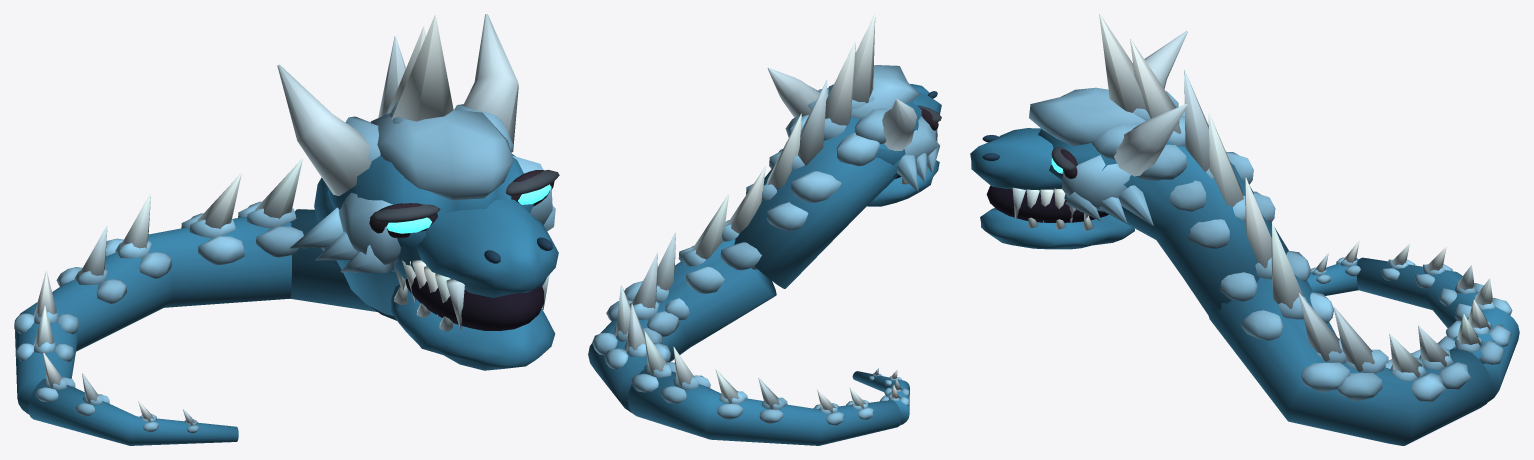
Rendered from jefe-serpiente-hielo.glb.
3 views of the same model, side by side, from view 1: azimuth 30°, elevation 25°; view 2: azimuth 150°, elevation 25°; view 3: azimuth 270°, elevation 25° (orthographic). The views are drawn at different scales.
Visible parts, largest first — view 1: Head, Coil_3, Spikes, Coil_4, Jaw, Coil_2, Coil_1; view 2: Coil_1, Coil_2, Coil_3, Spikes, Head, Coil_4, Jaw; view 3: Coil_2, Head, Spikes, Coil_1, Coil_3, Jaw, Coil_4.
Boxes of the visible parts, x1,y1,x2,y2 form: Head: (277,14,559,330); Coil_3: (14,201,303,414); Spikes: (33,15,453,425); Coil_4: (28,377,238,445); Jaw: (391,282,555,370); Coil_2: (290,209,396,320); Coil_1: (314,100,513,315); Coil_1: (734,88,900,288); Coil_2: (588,220,776,412); Coil_3: (627,362,901,445); Spikes: (615,14,901,412); Head: (767,65,941,191); Coil_4: (852,371,909,425); Jaw: (867,160,939,206); Coil_2: (1208,250,1491,445); Head: (970,31,1187,225); Spikes: (1099,14,1493,377); Coil_1: (1091,91,1288,315); Coil_3: (1356,257,1519,401); Jaw: (980,208,1134,249); Coil_4: (1307,257,1360,295).
Bounding box in the file's own units: 0.724 × 0.7109 × 1.
